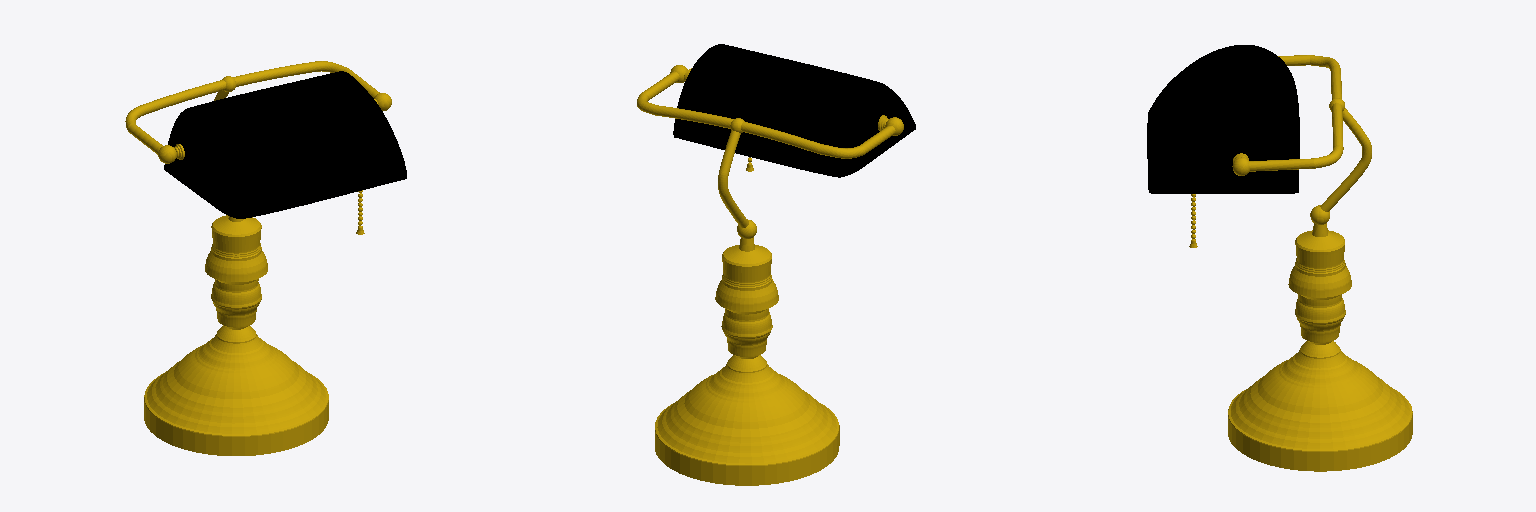
Rendered from bosslamp.obj.
The picture shows the model from 3 angles: view 1: azimuth 30°, elevation 25°; view 2: azimuth 150°, elevation 25°; view 3: azimuth 270°, elevation 25°; orthographic projection.
Visible parts, largest first — view 1: LAMP_body, LAMP_Glass; view 2: LAMP_body, LAMP_Glass; view 3: LAMP_body, LAMP_Glass.
Part boxes in pixels (x1,y1,x2,y2): LAMP_body: (125,61,391,455); LAMP_Glass: (164,71,406,218); LAMP_body: (637,65,903,485); LAMP_Glass: (673,44,915,177); LAMP_body: (1228,55,1412,471); LAMP_Glass: (1147,45,1299,193).
Bounding box in the file's own units: 52.65 × 76.66 × 52.38.